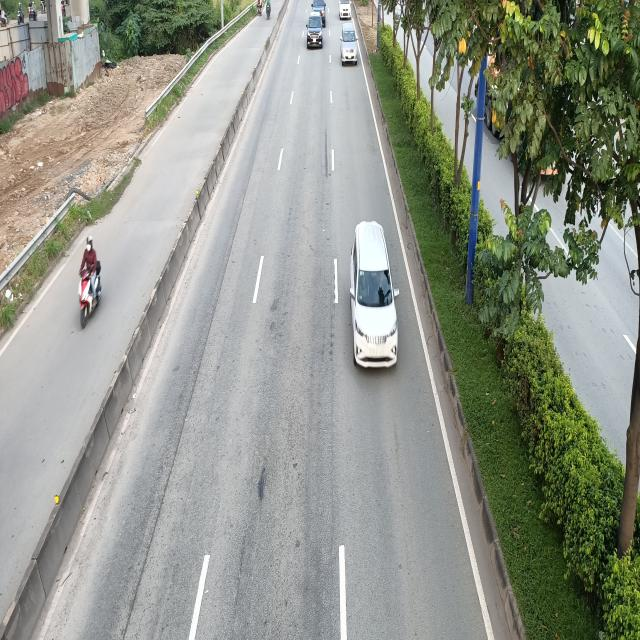car: (350, 221, 400, 371), (340, 23, 359, 66), (306, 13, 325, 49)
